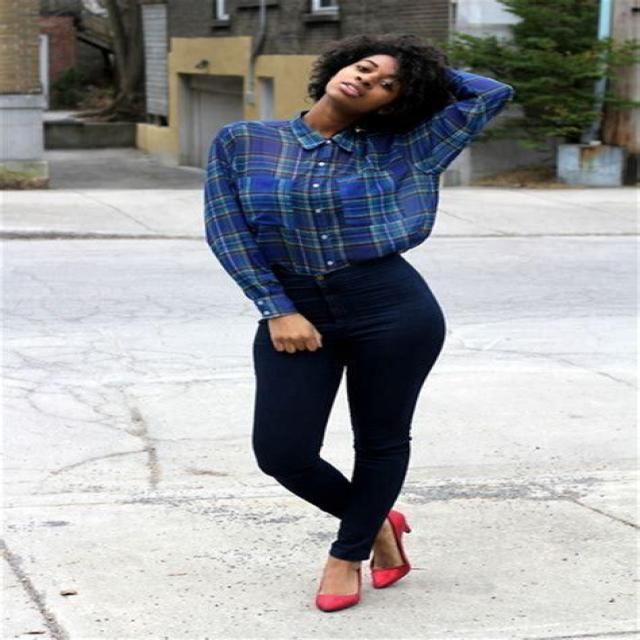pants: (250, 254, 443, 564)
shirt: (203, 67, 518, 318)
